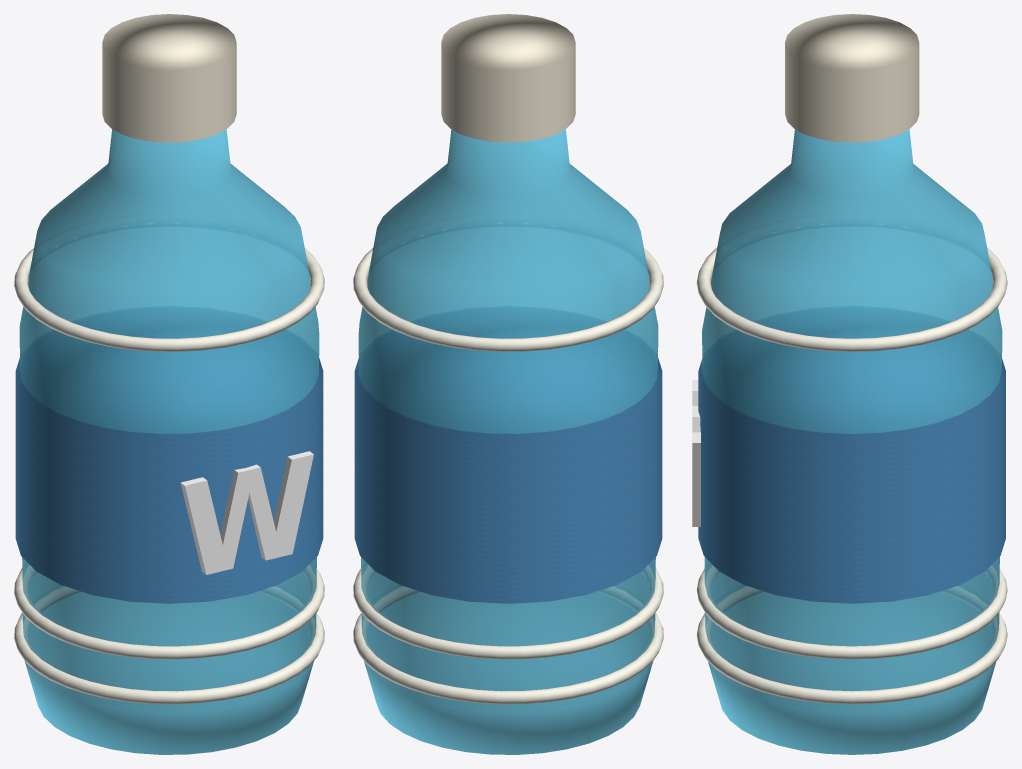
Rendered from WATER.glb.
3 views of the same model, side by side, from view 1: azimuth 30°, elevation 25°; view 2: azimuth 150°, elevation 25°; view 3: azimuth 270°, elevation 25° (orthographic).
Visible parts, largest first — view 1: WATER; view 2: WATER; view 3: WATER.
Boxes of the visible parts, <box> form: WATER: <box>14,14,324,754</box>; WATER: <box>353,14,663,754</box>; WATER: <box>692,14,1007,754</box>.
Size of the model in its own units: 0.176 by 0.41 by 0.1785.
5 materials, 1 textured.
